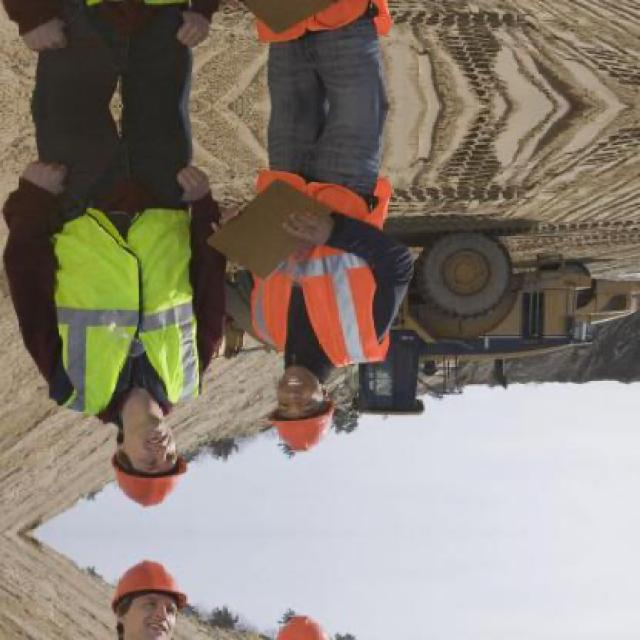con casco: (60, 369, 226, 510), (245, 335, 397, 460)
